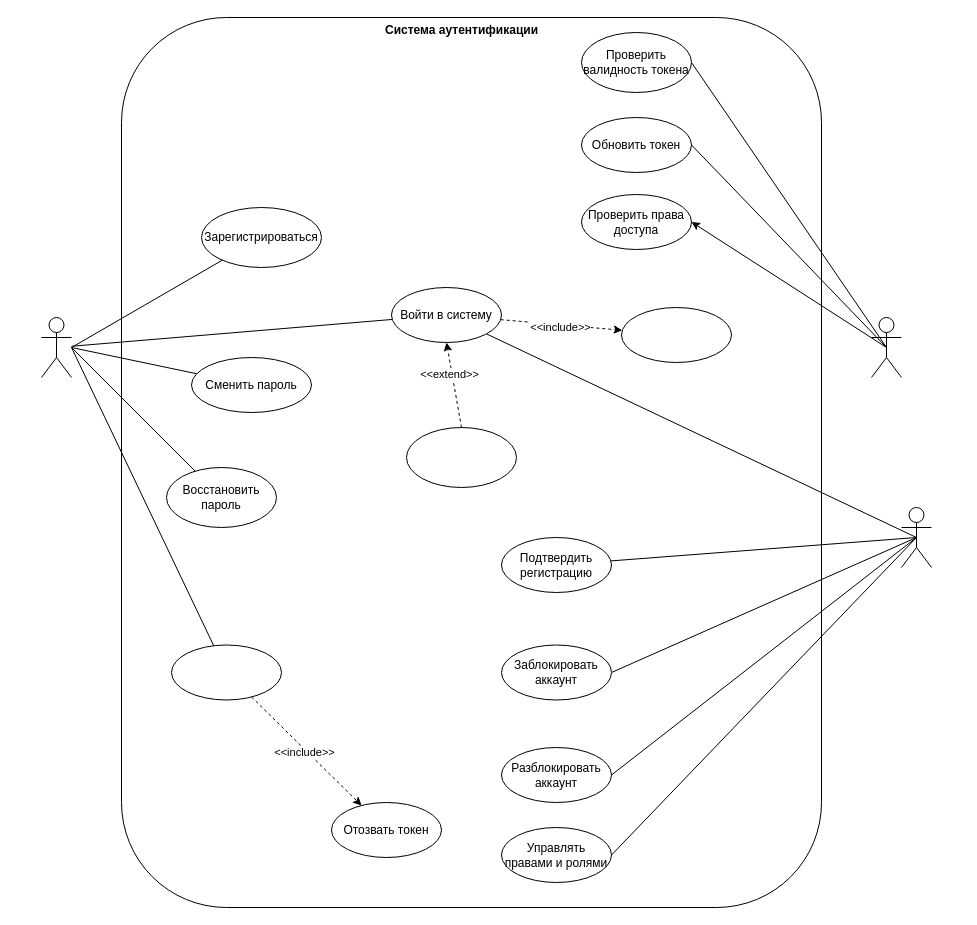
This 977x925 diagram has some shape labels left out. Each missing label, with the centre of its shape:
"Администратор" belongs at (916,537).
"Внешняя система" belongs at (886,347).
"Выйти из системы" belongs at (226,672).
"Выпустить токен" belongs at (676,334).
"Пользователь" belongs at (56,347).
"Пройти 2FA" belongs at (461,457).
